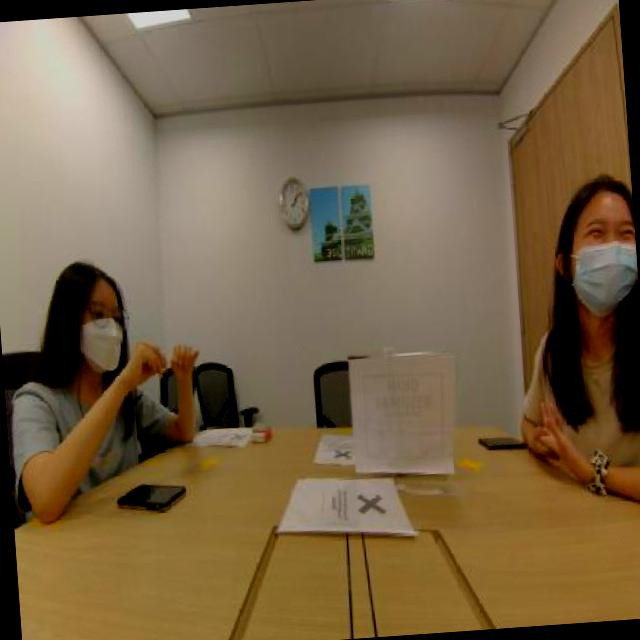Person: (10, 232, 198, 492), (503, 159, 640, 470)
